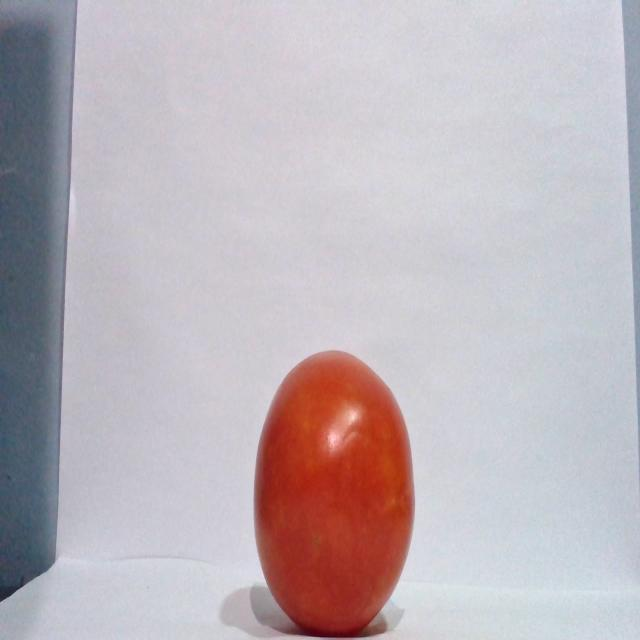Red: (251, 348, 416, 636)
